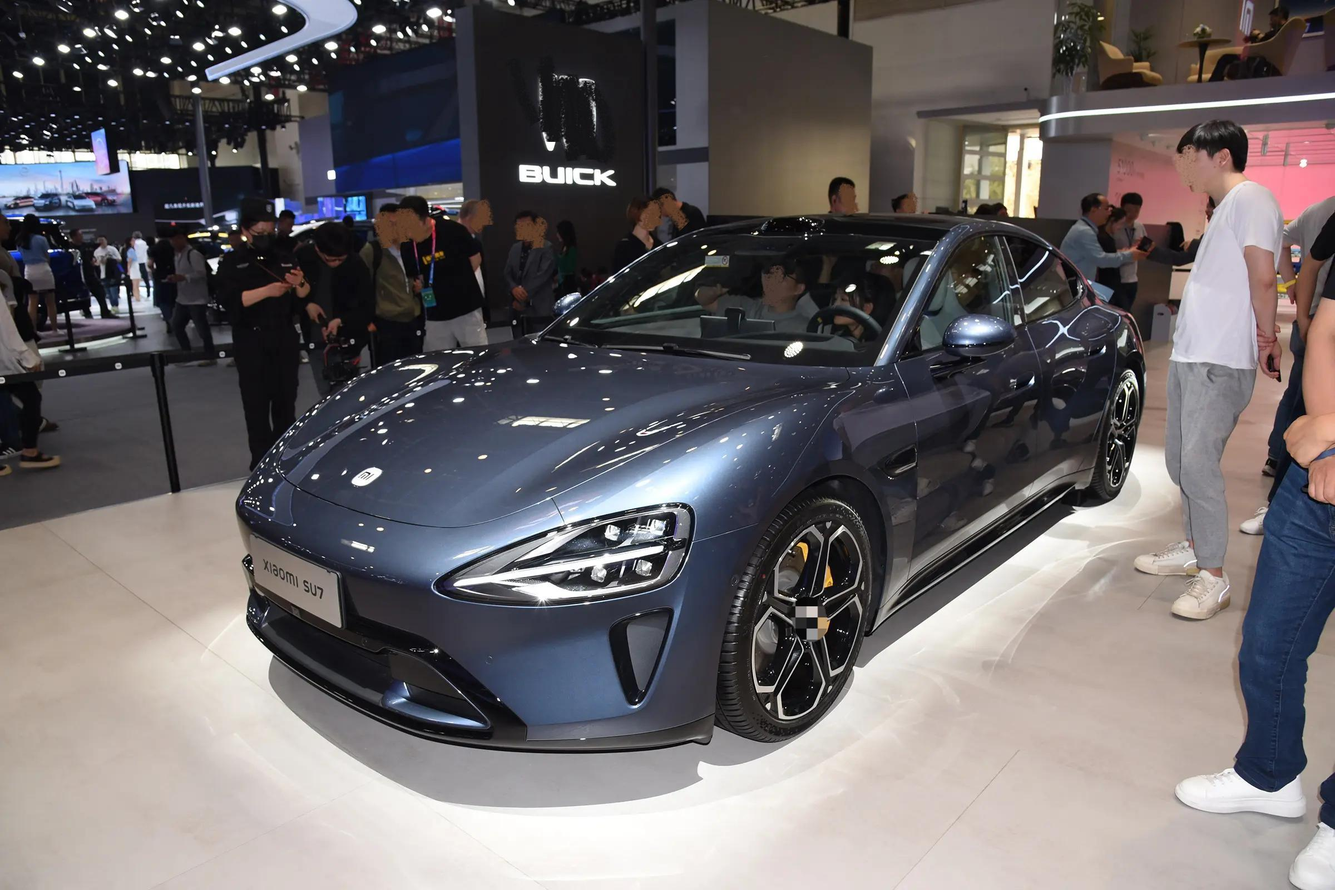XIAOMI: (352, 467, 382, 486)
